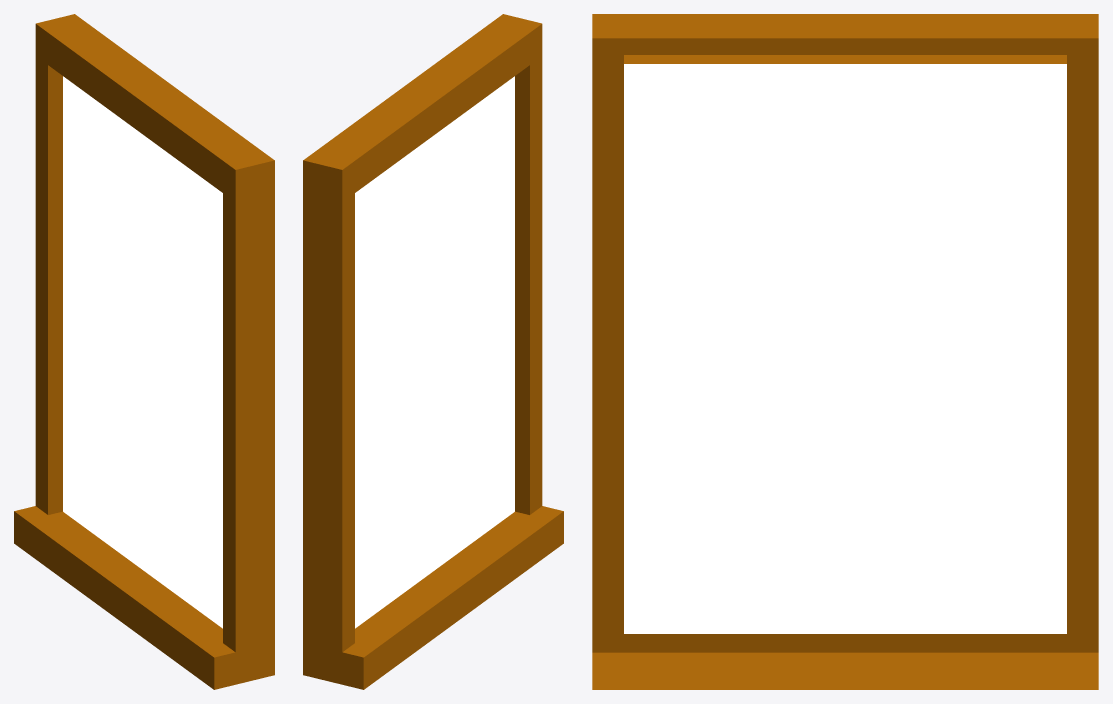
Rendered from window.glb.
3 views of the same model, side by side, from view 1: azimuth 30°, elevation 25°; view 2: azimuth 150°, elevation 25°; view 3: azimuth 270°, elevation 25° (orthographic). The views are drawn at different scales.
Parts seen in each view (by area): view 1: Painting Frame.001; view 2: Painting Frame.001; view 3: Painting Frame.001.
Part boxes in pixels (x1,y1,x2,y2): Painting Frame.001: (14, 14, 274, 689); Painting Frame.001: (303, 14, 563, 689); Painting Frame.001: (592, 14, 1098, 689).
Bounding box in the file's own units: 1 × 8.14 × 5.73.
